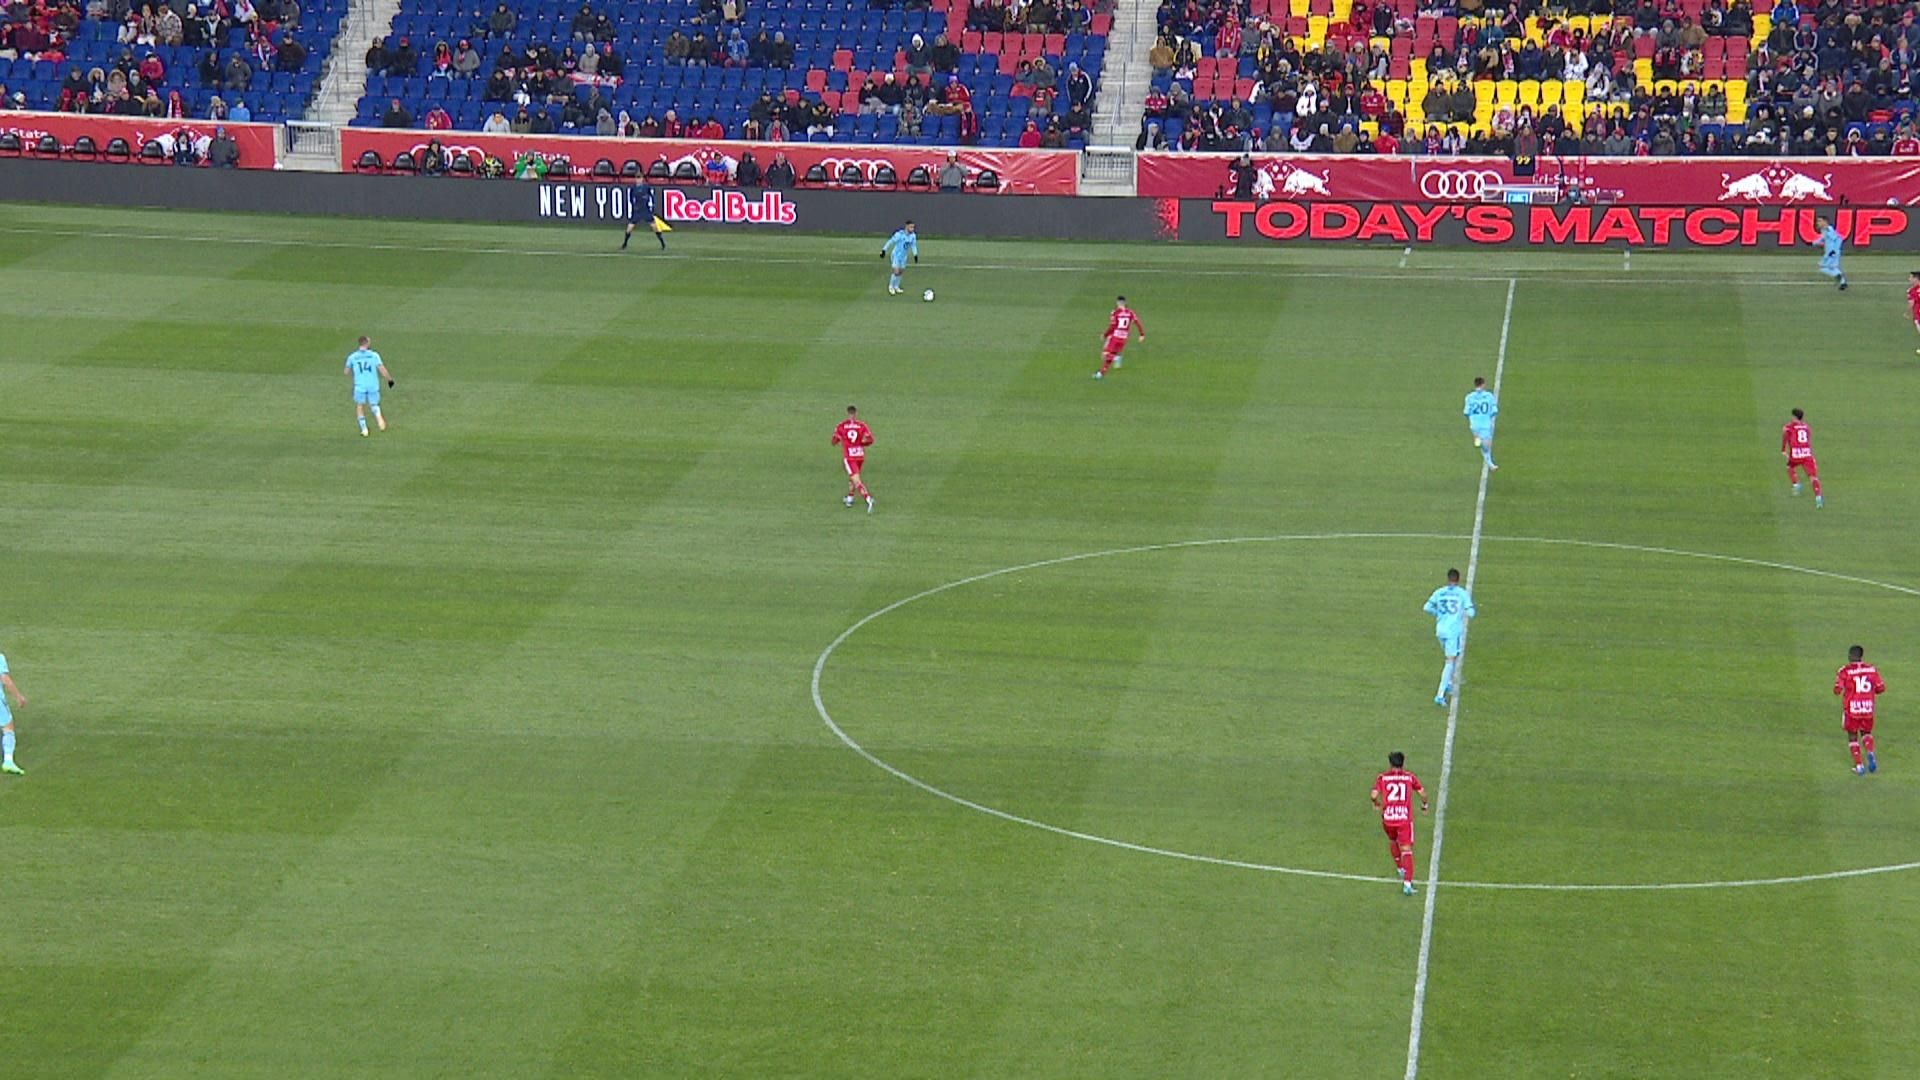football: (922, 289, 936, 302)
